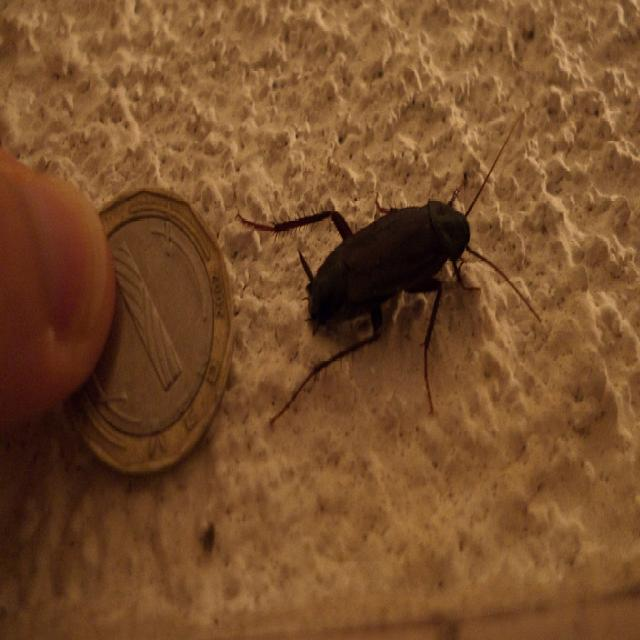Coin: (66, 178, 238, 469)
